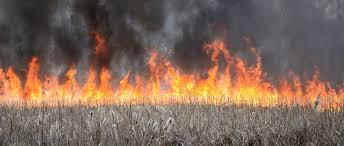fire: (1, 31, 338, 110)
yanwu: (3, 0, 340, 67)
